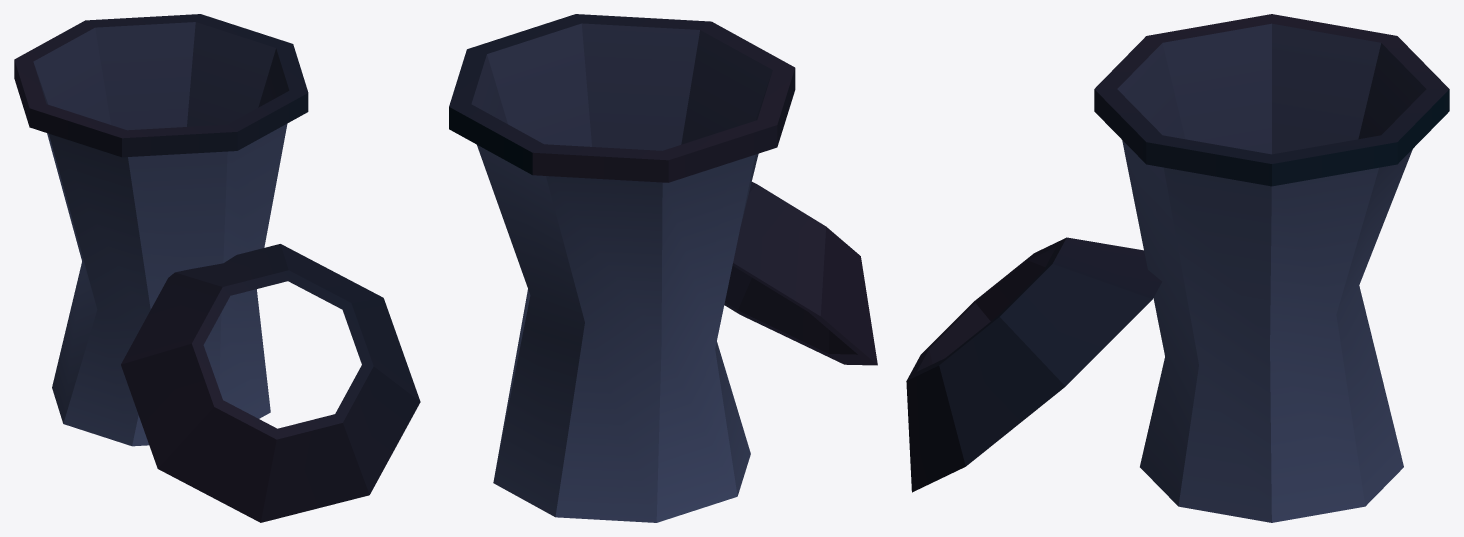
File: LixeiraQuebrada.fbx
The picture shows the model from 3 angles, left to right: view 1: azimuth 30°, elevation 25°; view 2: azimuth 150°, elevation 25°; view 3: azimuth 270°, elevation 25°; orthographic projection. The views are drawn at different scales.
Visible parts, largest first — view 1: Lixeira; view 2: Lixeira; view 3: Lixeira.
Part boxes in pixels (x1,y1,x2,y2): Lixeira: (14, 14, 420, 522); Lixeira: (449, 14, 877, 522); Lixeira: (906, 14, 1449, 522).
Size of the model in its own units: 113 by 172 by 135.
